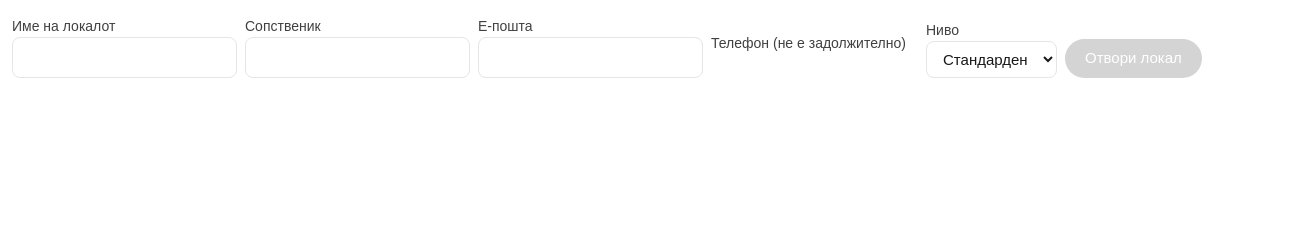
Scenario: CreateVenueForm (admin → Нов локал) › shows both generated passwords once, with copy buttons and the note for the owner
This screenshot has width=1292, height=247.
Type "Ресторан Езеро" into the field labelled "Име на локалот" at (124, 57), box [12,37,237,78]
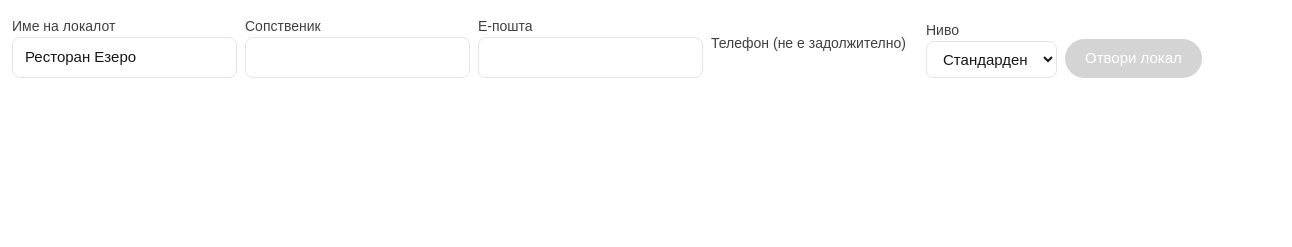
Type "Марија" into the field labelled "Сопственик" at (358, 57), box [245,37,470,78]
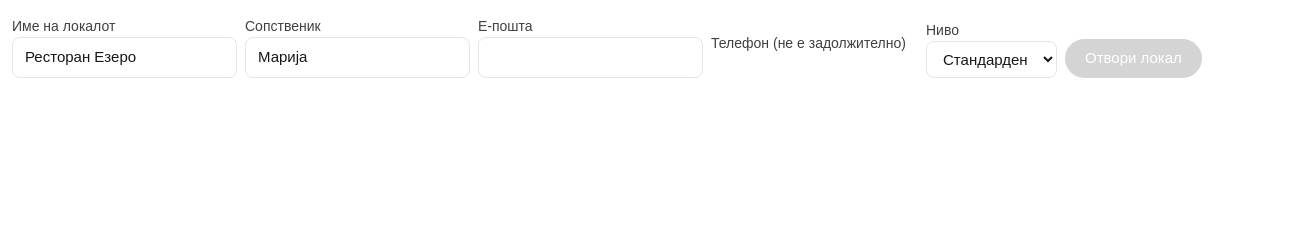
Type "m@example.com" into the field labelled "Е-пошта" at (590, 57), box [478,37,703,78]
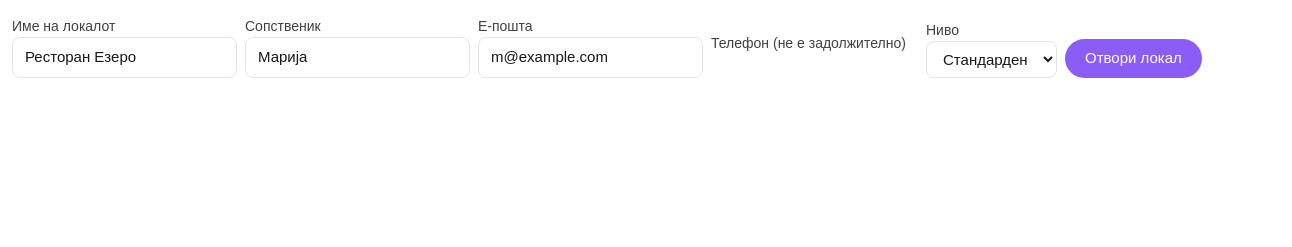
Click the button "Отвори локал" at (1133, 58), box [1065,39,1202,78]
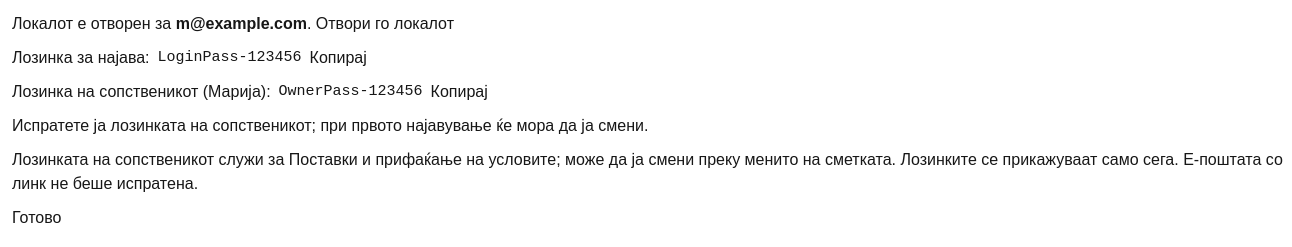
Now the text "LoginPass-123456" is shown, box [158,47,302,69]
Now the text "OwnerPass-123456" is shown, box [279,81,423,103]
Now the number of buttons "Копирај" is 2, box [310,46,367,70]; [431,80,488,104]
Click the button "Готово" at (37, 218), box [12,206,61,230]
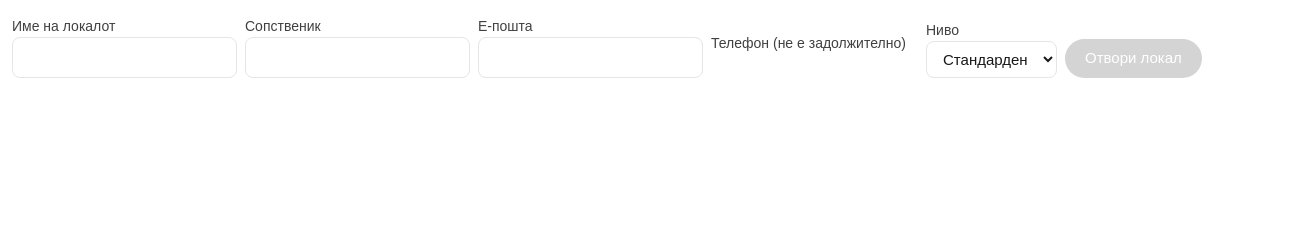
Now the text "LoginPass-123456" is gone
Now the field labelled "Име на локалот" is empty, box [12,37,237,78]
